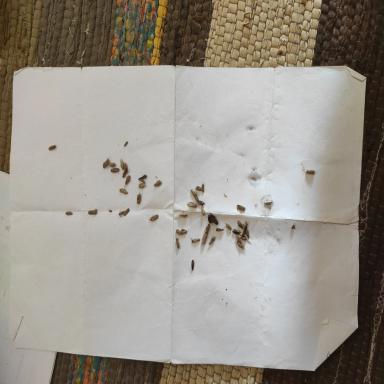pbw: (236, 241, 246, 251), (203, 223, 210, 237), (200, 234, 208, 246), (124, 175, 131, 187), (208, 235, 216, 245), (103, 157, 110, 168), (148, 214, 159, 221), (190, 189, 198, 198), (236, 205, 246, 212), (236, 234, 243, 244), (122, 208, 130, 216), (119, 188, 128, 195), (187, 201, 197, 207), (124, 162, 129, 174), (224, 223, 232, 230), (154, 180, 162, 187), (242, 226, 247, 237), (122, 167, 127, 178), (88, 210, 97, 216), (243, 221, 248, 231), (239, 234, 246, 241), (138, 182, 146, 188), (176, 237, 180, 249), (175, 229, 183, 235), (196, 200, 204, 206), (48, 144, 56, 150), (191, 238, 200, 243), (120, 159, 124, 170), (180, 228, 187, 234), (216, 227, 224, 232), (139, 174, 147, 179), (246, 228, 250, 238), (138, 178, 146, 183), (108, 162, 116, 167), (137, 194, 141, 204), (110, 168, 120, 172), (306, 170, 316, 174), (201, 206, 205, 216), (178, 214, 188, 218), (195, 186, 202, 191), (118, 210, 125, 215), (65, 211, 73, 215), (264, 200, 272, 204), (202, 179, 204, 193), (124, 141, 128, 147), (192, 260, 194, 271)
